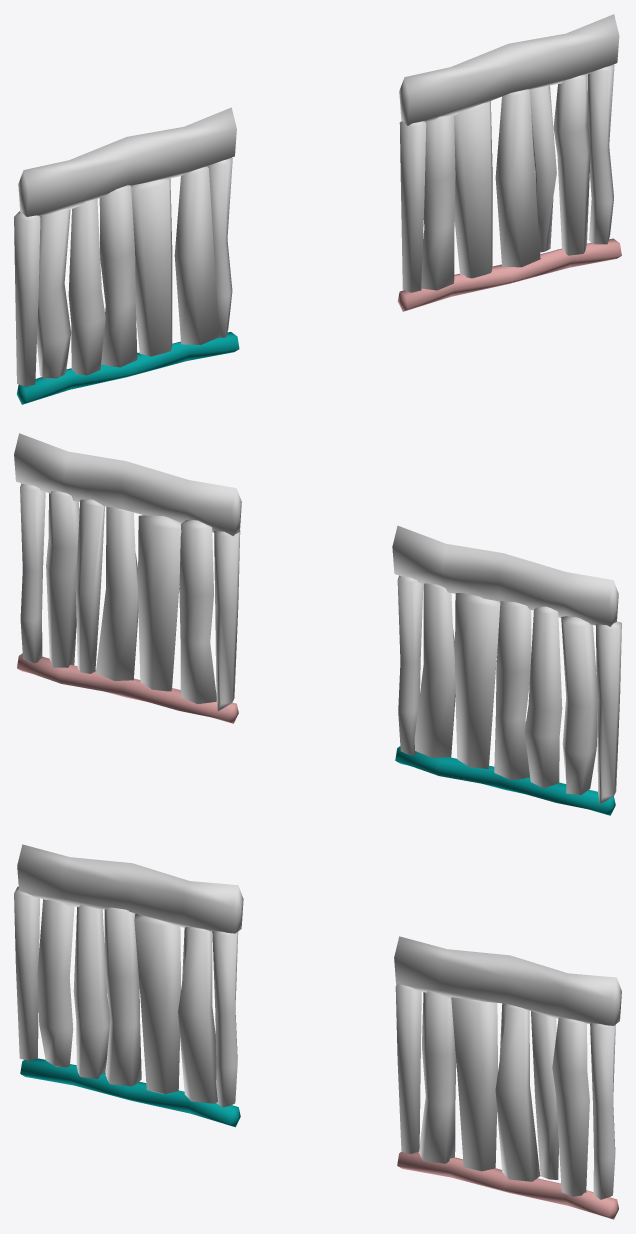
Rendered from PBW_W1_HalfWallDoor.glb.
3 renders of one model, top to bottom at view 1: azimuth 30°, elevation 25°; view 2: azimuth 150°, elevation 25°; view 3: azimuth 330°, elevation 25°, orthographic.
Parts seen in each view (by area): view 1: PBW_W1_HalfWallDoor; view 2: PBW_W1_HalfWallDoor; view 3: PBW_W1_HalfWallDoor.
Part boxes in pixels (x1,y1,x2,y2): PBW_W1_HalfWallDoor: [14, 14, 621, 404]; PBW_W1_HalfWallDoor: [14, 433, 621, 815]; PBW_W1_HalfWallDoor: [14, 844, 621, 1219].
Size of the model in its own units: 5.18 by 1.99 by 0.2621.
